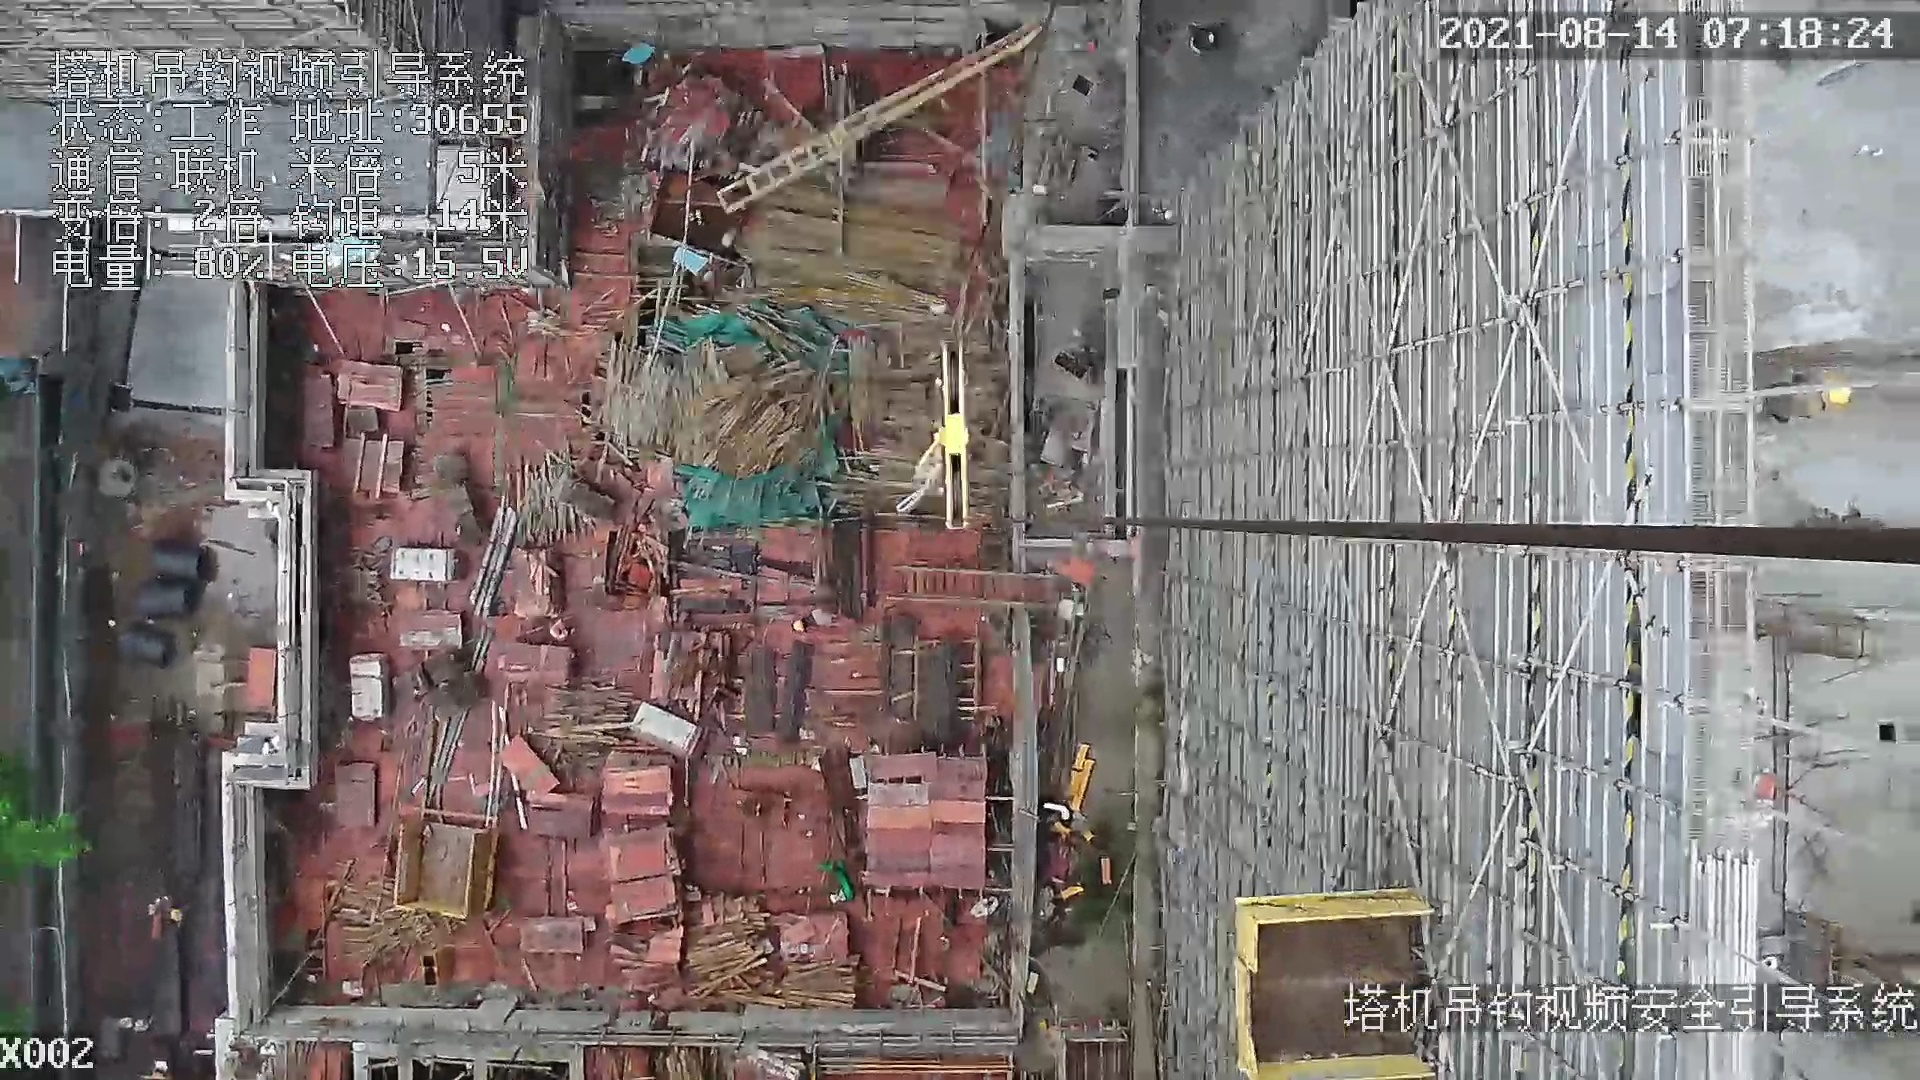hook: (899, 339, 978, 531)
